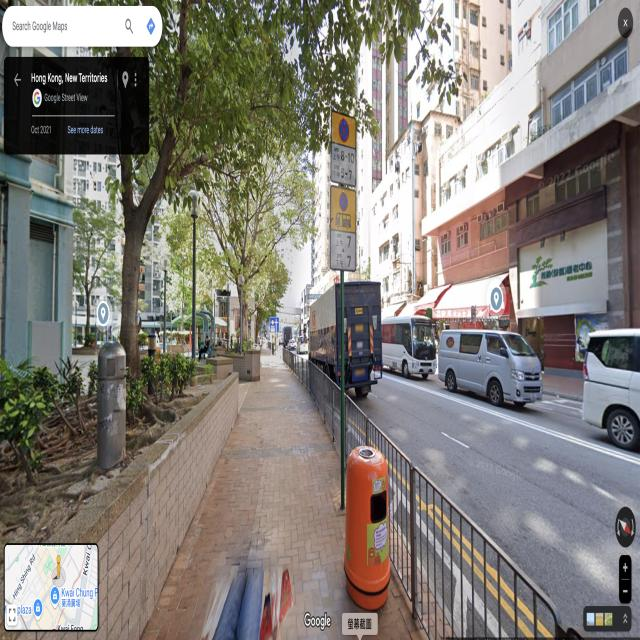Direction-Sign: (270, 318, 278, 332)
Order-Sign: (333, 187, 355, 269), (333, 112, 355, 186)
